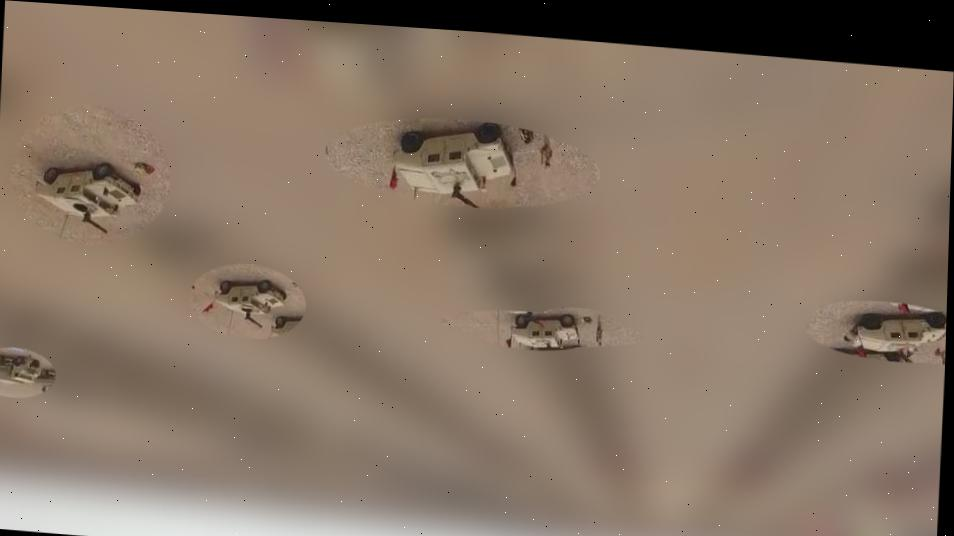armored_car: (391, 111, 525, 202), (31, 159, 144, 224), (839, 302, 947, 363), (209, 270, 290, 320), (508, 309, 587, 356)
truck: (0, 344, 42, 388)
